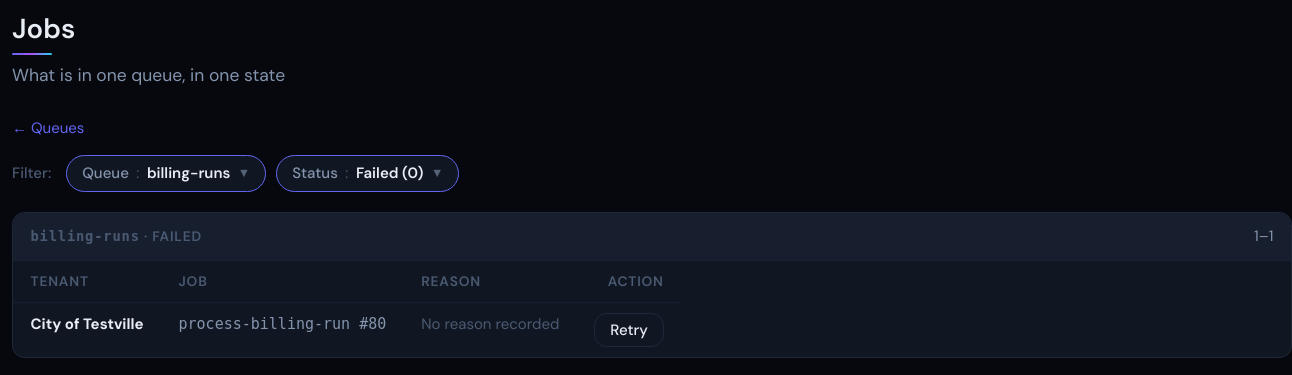
Test: the cluster jobs page › shows the refusal when a job has moved on
Click the button with aria-label "retry job " at [629, 330], box [594,313,664,347]
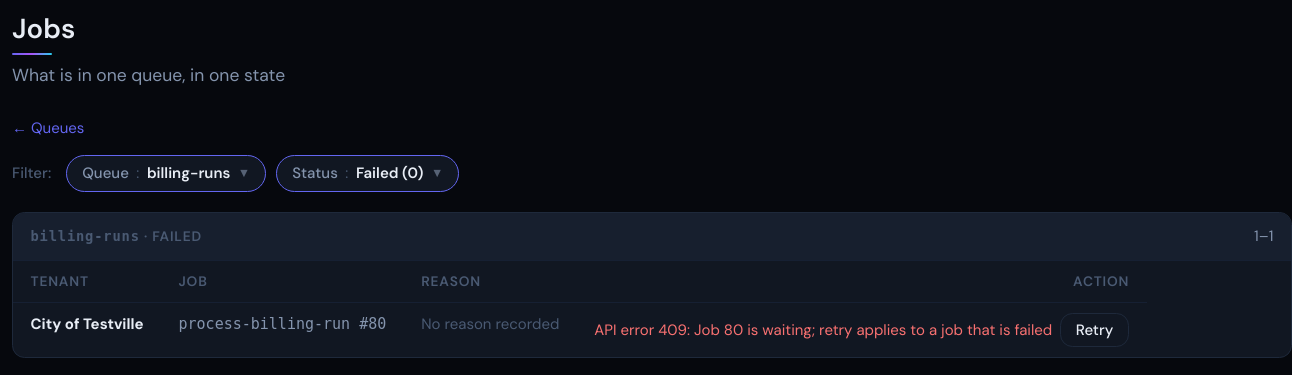
Check: the text "retry applies" is shown, box [594,320,1052,340]
